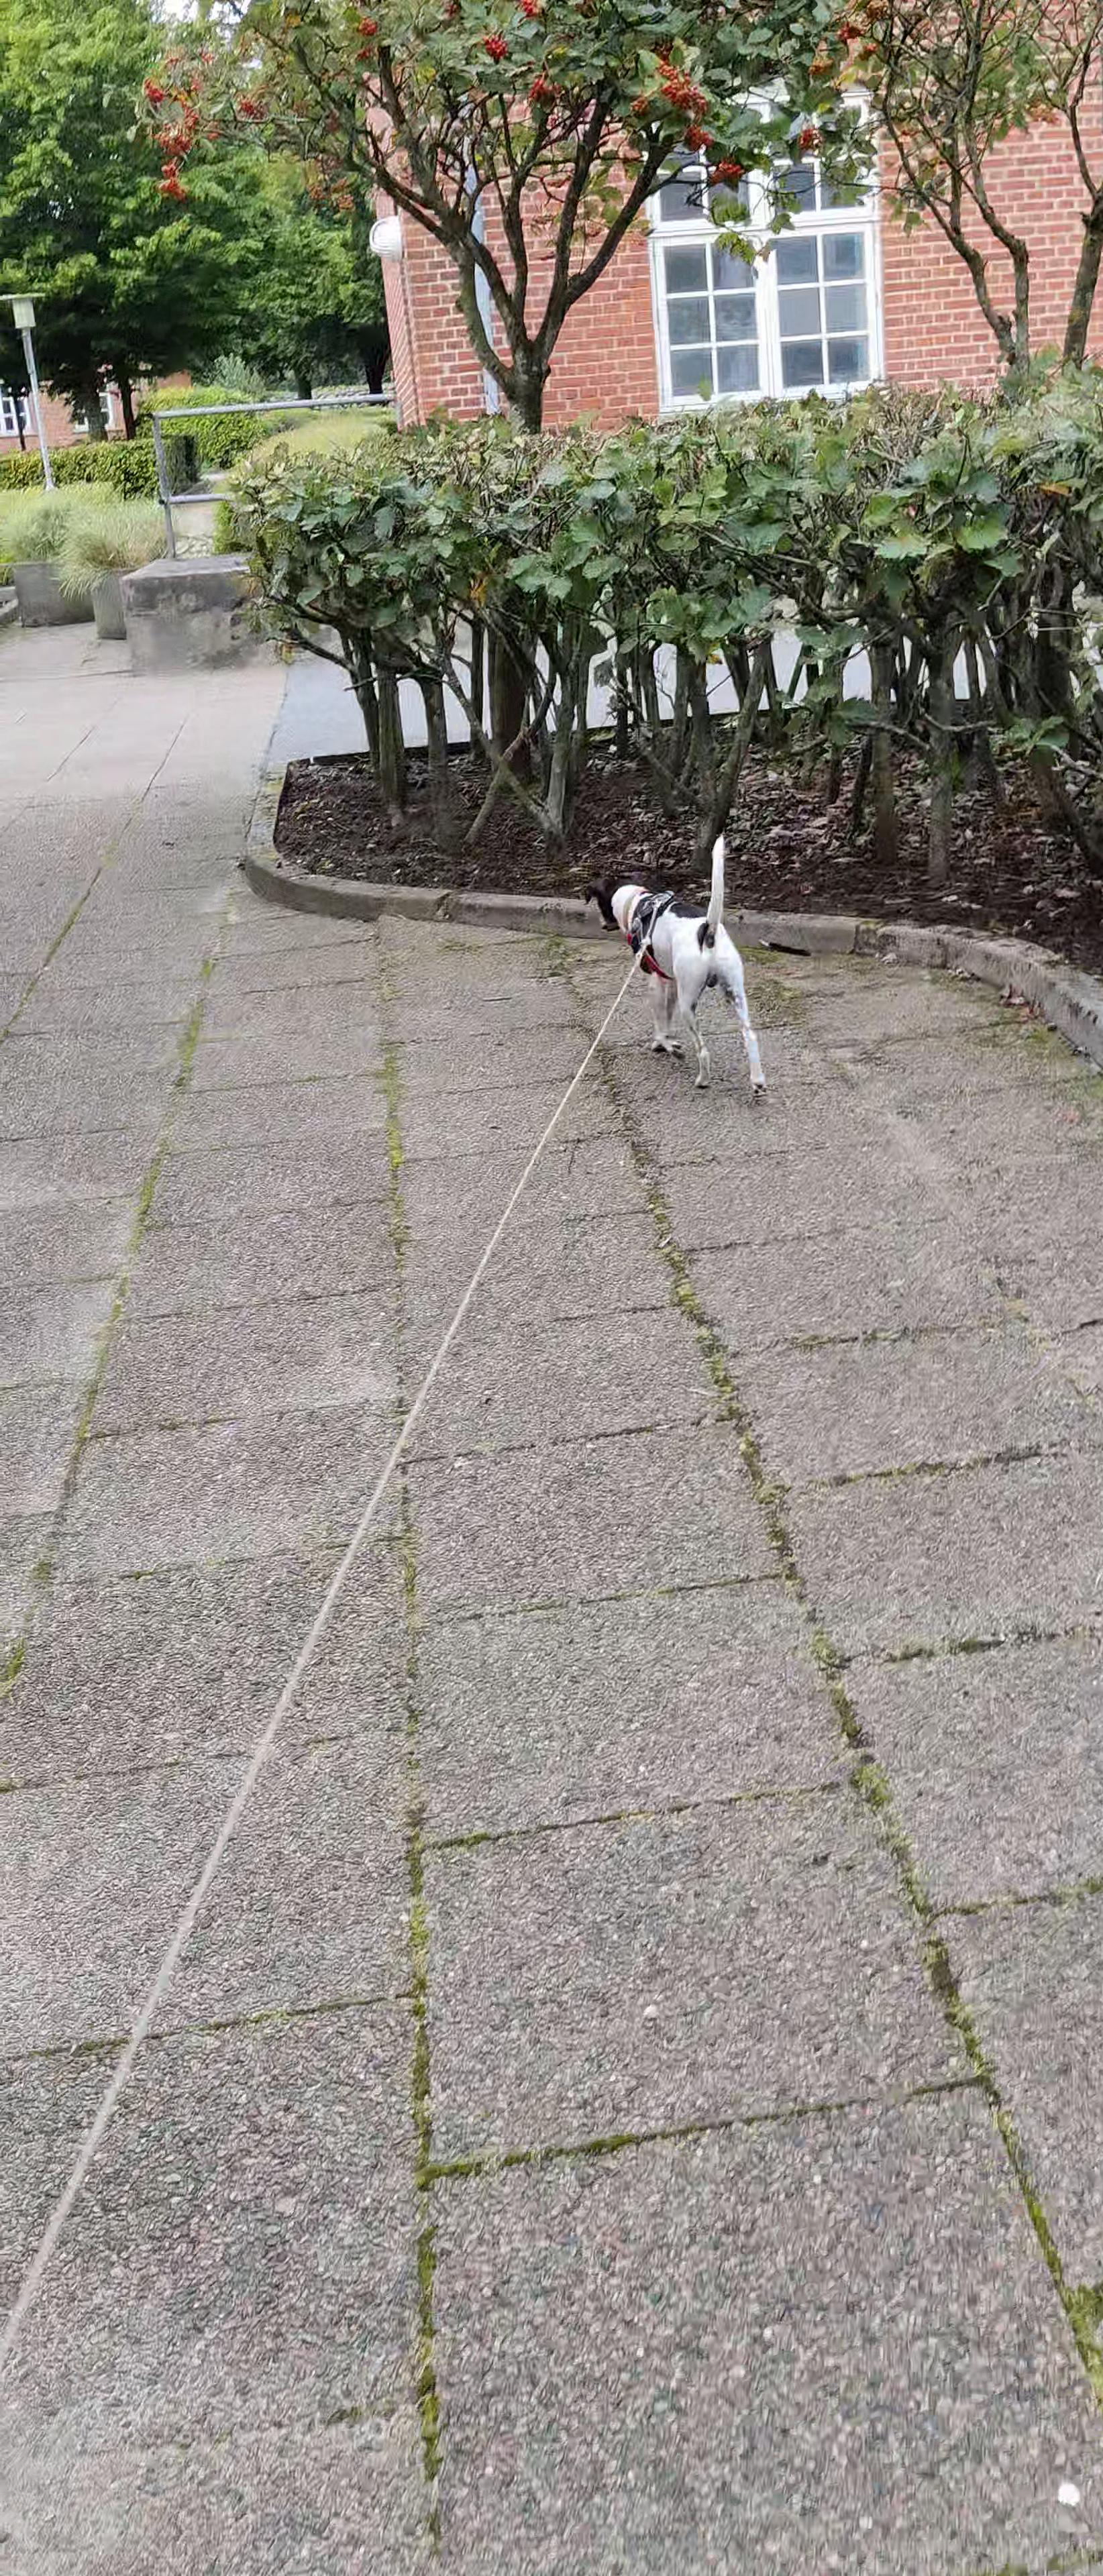Dog: (580, 828, 774, 1102)
